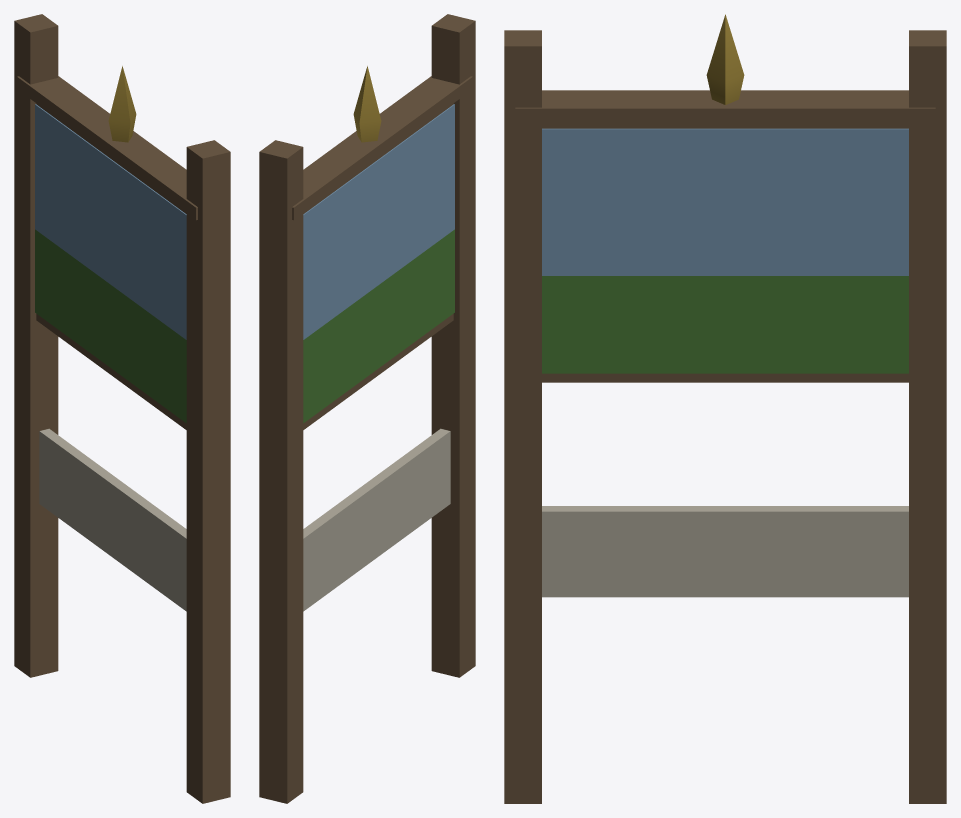
Rendered from SM_Prop_village_sign_1_LOD1.glb.
3 views of the same model, side by side, from view 1: azimuth 30°, elevation 25°; view 2: azimuth 150°, elevation 25°; view 3: azimuth 270°, elevation 25° (orthographic). The views are drawn at different scales.
Visible parts, largest first — view 1: SM_Prop_village_sign_1_LOD1; view 2: SM_Prop_village_sign_1_LOD1; view 3: SM_Prop_village_sign_1_LOD1.
Part boxes in pixels (left/top/right/bottom): SM_Prop_village_sign_1_LOD1: left=14, top=14, right=230, bottom=803; SM_Prop_village_sign_1_LOD1: left=259, top=14, right=475, bottom=803; SM_Prop_village_sign_1_LOD1: left=504, top=14, right=946, bottom=803.
Size of the model in its own units: 0.16 by 3.2 by 1.64.
